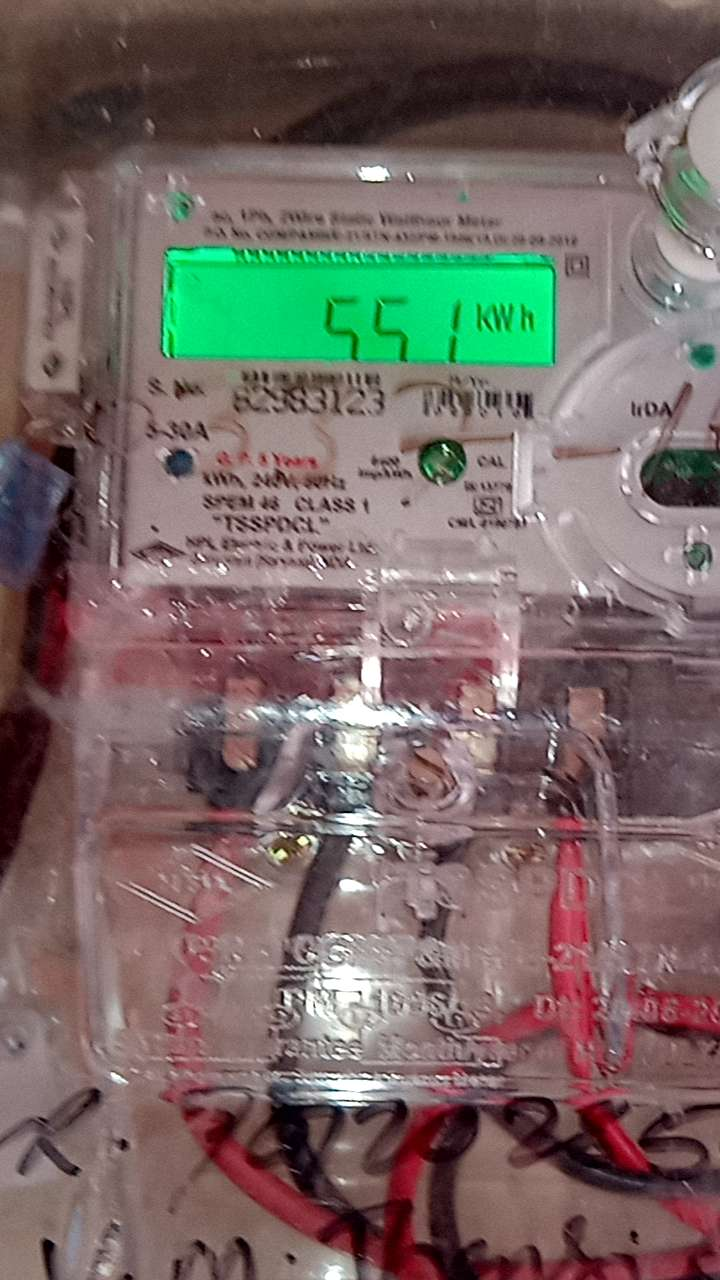meter_serial_number: (225, 381, 392, 423)
